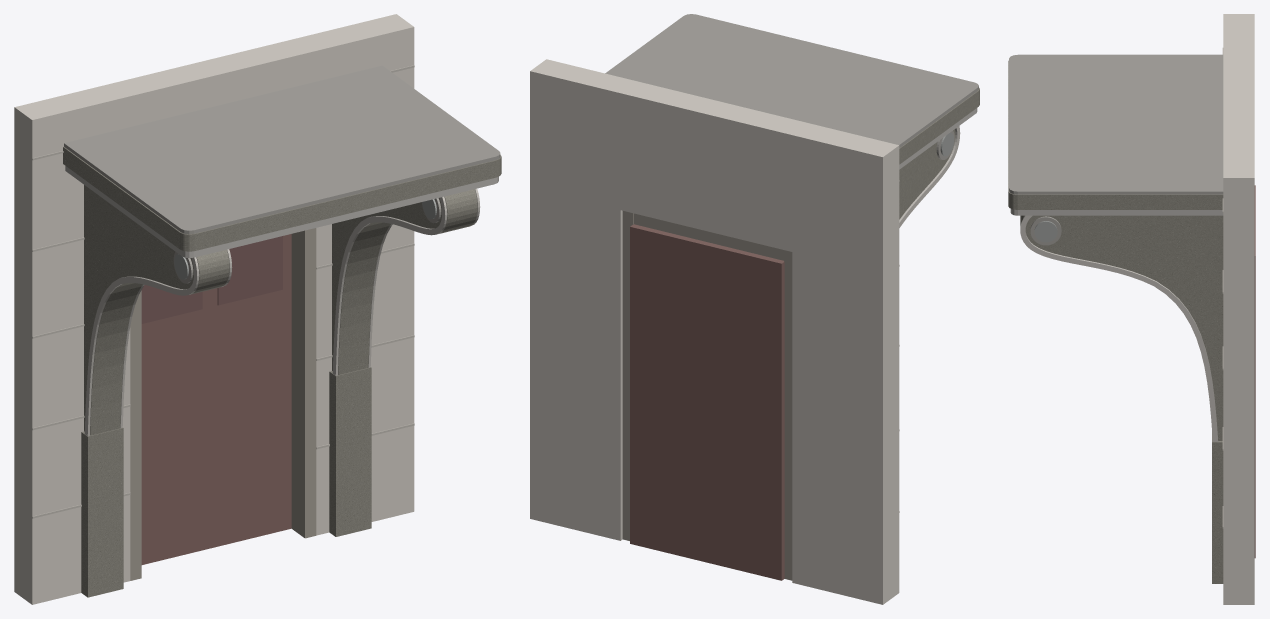
File: yanqing-lane18-curved-entrance-canopy-far.glb
3 views of the same model, side by side, from view 1: azimuth 30°, elevation 25°; view 2: azimuth 150°, elevation 25°; view 3: azimuth 270°, elevation 25° (orthographic). The views are drawn at different scales.
Parts seen in each view (by area): view 1: 延庆路18弄10号弧托雨篷与圆形端饰; view 2: 延庆路18弄10号弧托雨篷与圆形端饰; view 3: 延庆路18弄10号弧托雨篷与圆形端饰.
Boxes of the visible parts, box(x1,y1,x2,y2) form: 延庆路18弄10号弧托雨篷与圆形端饰: box(14, 14, 501, 604); 延庆路18弄10号弧托雨篷与圆形端饰: box(530, 14, 979, 604); 延庆路18弄10号弧托雨篷与圆形端饰: box(1008, 14, 1255, 604).
Bounding box in the file's own units: 2.4 × 2.91 × 1.53.
Materials: 10 (1 with a texture image).
